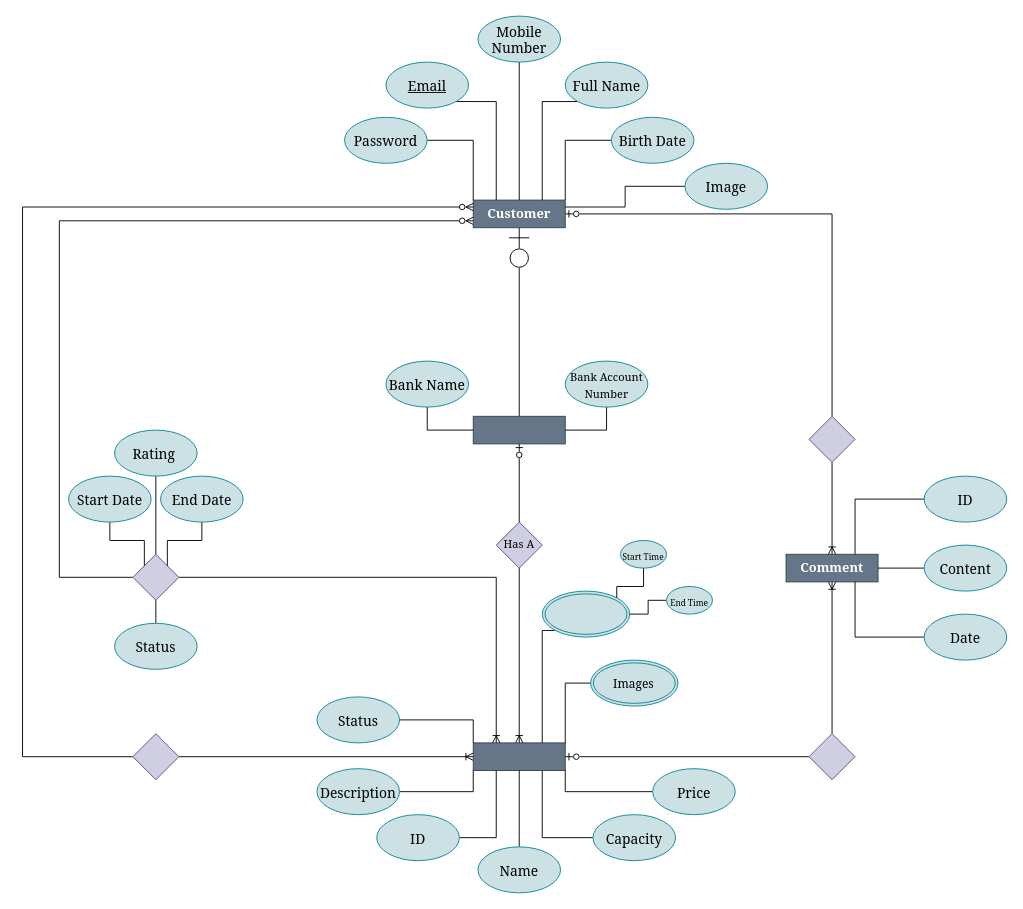
The diagram is 1023 pixels wide and 909 high, and some of its shapes have lost their labels. Here are the shapes that lost their labels. From the top down, the centre of each, then its label:
At pixel 518 429: "Provider".
At pixel 831 438: "Writes".
At pixel 155 576: "Book".
At pixel 585 613: "Appointments".
At pixel 155 756: "Bookmark".
At pixel 518 756: "Service".
At pixel 831 756: "On".
